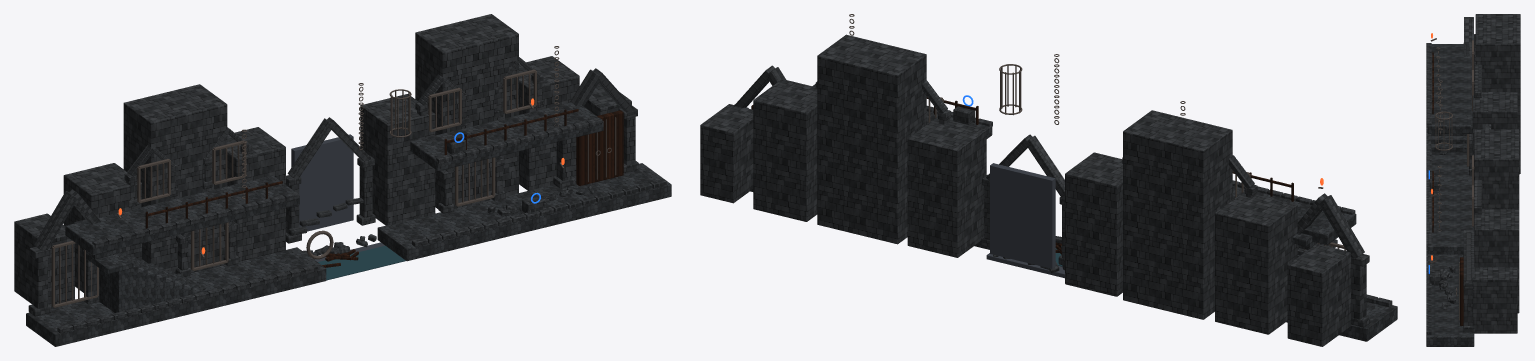
The model's file is EpicFragment_Prison_V7_4_Complete.glb.
3 views of the same model, side by side, from view 1: azimuth 30°, elevation 25°; view 2: azimuth 150°, elevation 25°; view 3: azimuth 270°, elevation 25° (orthographic). The views are drawn at different scales.
Parts seen in each view (by area): view 1: BG_Wall_02, BG_Wall_05, Floor_Right, Floor_Left, BG_Wall_04, Upper_Left, Upper_Right, BG_Wall_03, BG_Central_Recess, BG_Wall_06, BG_Wall_01, BG_Wall_00 (+10 smaller); view 2: BG_Wall_02, BG_Wall_05, BG_Wall_01, BG_Wall_04, BG_Wall_06, BG_Wall_03, BG_Central_Recess, BG_Wall_00, BG_Wall_07, Upper_Left, Floor_Left, Arch_LeftGate_PierL; view 3: BG_Wall_02, Upper_Left, BG_Wall_05, BG_Wall_07, BG_Wall_06, Upper_Right, Floor_Right, BG_Wall_03, Floor_Left, Arch_RightDoor_PierR, Stair_Left_Lower_00, Stair_Left_Lower_01 (+7 smaller).
Part boxes in pixels (<box>): BG_Wall_02: <box>123,84,227,273</box>; BG_Wall_05: <box>415,14,518,208</box>; Floor_Right: <box>377,163,671,261</box>; Floor_Left: <box>26,247,326,346</box>; BG_Wall_04: <box>360,94,435,225</box>; Upper_Left: <box>65,175,299,255</box>; Upper_Right: <box>410,102,603,170</box>; BG_Wall_03: <box>227,127,285,261</box>; BG_Central_Recess: <box>291,134,353,231</box>; BG_Wall_06: <box>519,56,579,190</box>; BG_Wall_01: <box>63,163,141,292</box>; BG_Wall_00: <box>14,213,74,307</box>; BG_Wall_02: <box>1123,110,1232,319</box>; BG_Wall_05: <box>817,34,926,244</box>; BG_Wall_01: <box>1215,191,1297,334</box>; BG_Wall_04: <box>907,117,986,257</box>; BG_Wall_06: <box>753,79,817,221</box>; BG_Wall_03: <box>1065,152,1122,296</box>; BG_Central_Recess: <box>990,163,1055,268</box>; BG_Wall_00: <box>1287,244,1350,346</box>; BG_Wall_07: <box>700,104,753,203</box>; Upper_Left: <box>1232,186,1356,244</box>; Floor_Left: <box>1286,302,1397,341</box>; Arch_LeftGate_PierL: <box>1351,263,1366,319</box>; BG_Wall_02: <box>1475,14,1520,174</box>; Upper_Left: <box>1427,44,1472,133</box>; BG_Wall_05: <box>1474,129,1519,209</box>; BG_Wall_07: <box>1472,267,1517,333</box>; BG_Wall_06: <box>1474,209,1519,313</box>; Upper_Right: <box>1427,180,1472,254</box>; Floor_Right: <box>1426,254,1474,346</box>; BG_Wall_03: <box>1472,92,1517,154</box>; Floor_Left: <box>1431,152,1471,180</box>; Arch_RightDoor_PierR: <box>1463,288,1472,325</box>; Stair_Left_Lower_00: <box>1431,144,1466,152</box>; Stair_Left_Lower_01: <box>1431,136,1466,143</box>.
Size of the model in its own units: 38.6 by 11.28 by 6.3.
Materials: 8 (3 with a texture image).
